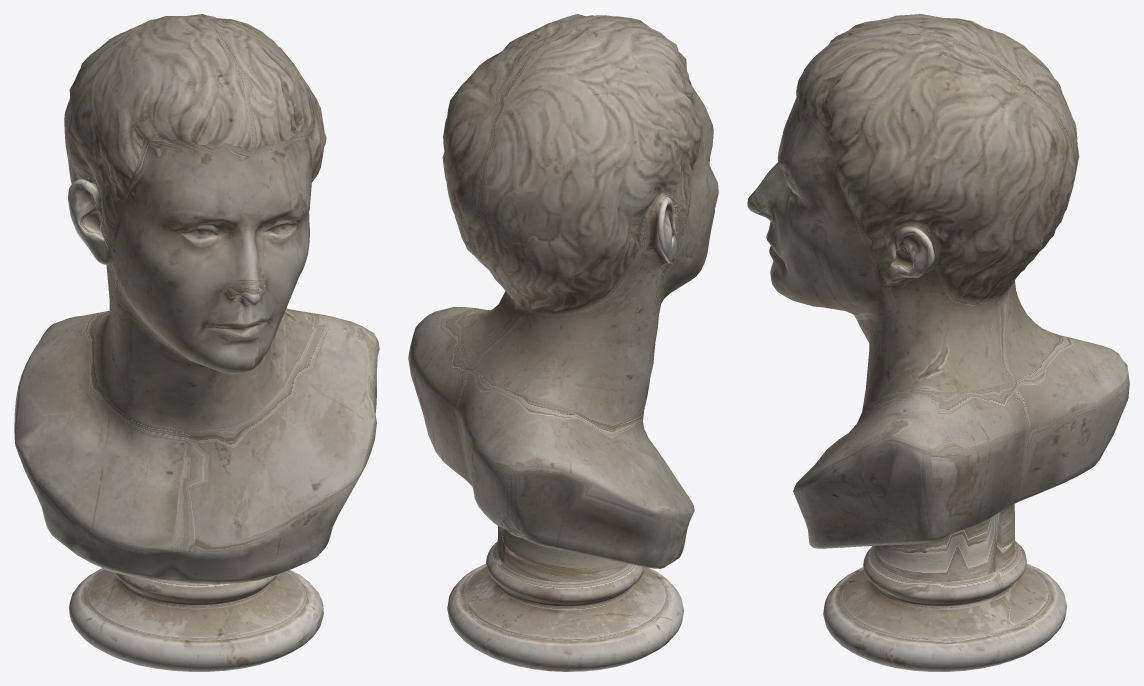
File: marble_bust_01.glb
The picture shows the model from 3 angles, left to right: view 1: azimuth 30°, elevation 25°; view 2: azimuth 150°, elevation 25°; view 3: azimuth 270°, elevation 25°; orthographic projection. The views are drawn at different scales.
Visible parts, largest first — view 1: marble_bust_01; view 2: marble_bust_01; view 3: marble_bust_01.
Part boxes in pixels (box(x1,y1,x2,y2)): marble_bust_01: box(14, 14, 379, 671); marble_bust_01: box(408, 14, 718, 671); marble_bust_01: box(747, 14, 1129, 671).
Bounding box in the file's own units: 0.2718 × 0.5149 × 0.2997.
Materials: 1 (1 with a texture image).
